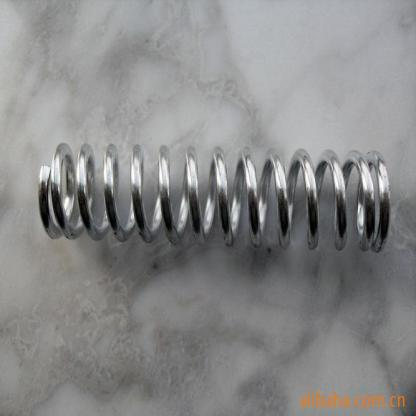FOD: (32, 136, 395, 259)
